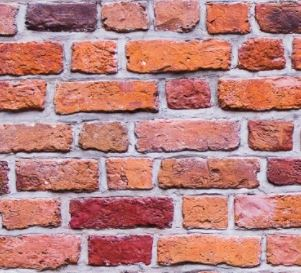brick: (127, 38, 233, 72), (134, 119, 242, 152), (158, 234, 263, 267), (53, 81, 160, 113), (68, 197, 173, 229), (159, 156, 259, 189), (13, 157, 99, 193), (216, 77, 301, 113), (1, 233, 83, 267), (1, 119, 75, 155), (24, 2, 100, 32), (1, 40, 65, 75), (234, 194, 301, 227), (1, 196, 64, 231), (88, 234, 155, 266), (183, 192, 229, 229), (245, 118, 295, 152), (105, 155, 155, 189), (71, 38, 118, 71), (240, 35, 287, 68), (165, 78, 212, 111), (1, 79, 47, 112), (253, 2, 301, 33), (153, 1, 200, 32), (81, 119, 129, 149), (208, 2, 248, 34), (105, 2, 147, 32), (266, 232, 301, 266), (265, 156, 301, 184)
